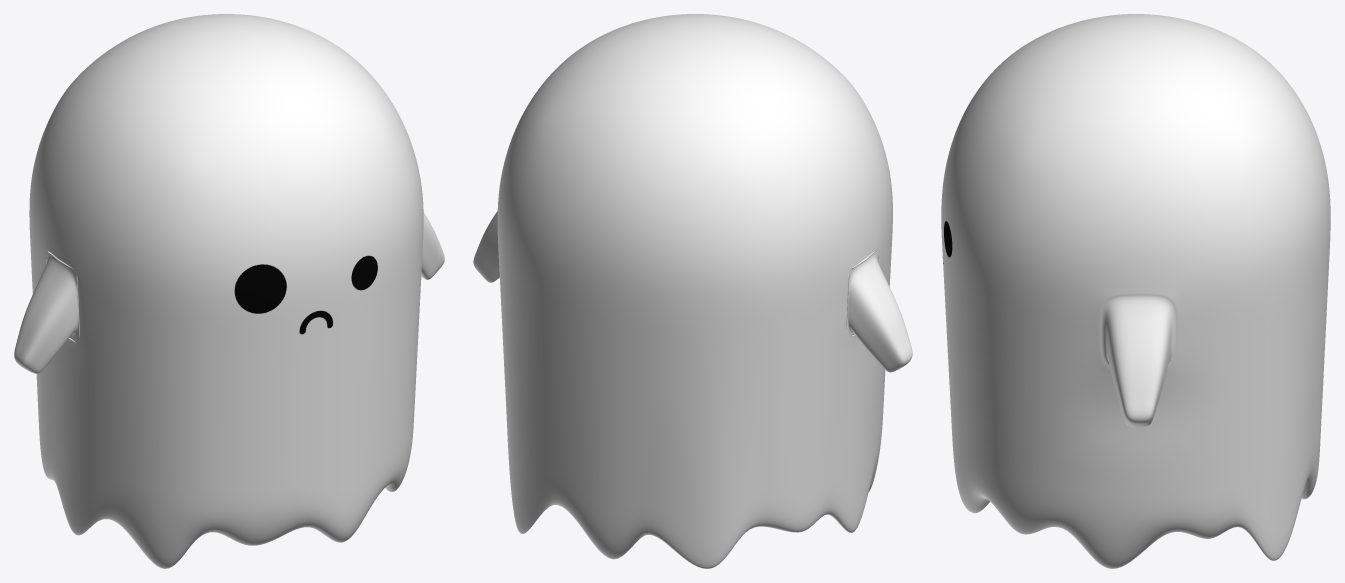
Rendered from Ghost.glb.
The picture shows the model from 3 angles, left to right: view 1: azimuth 30°, elevation 25°; view 2: azimuth 150°, elevation 25°; view 3: azimuth 270°, elevation 25°; orthographic projection.
Visible parts, largest first — view 1: Cube_Material.003_0; view 2: Cube_Material.003_0; view 3: Cube_Material.003_0.
Part boxes in pixels (x1,y1,x2,y2): Cube_Material.003_0: (14, 14, 444, 568); Cube_Material.003_0: (473, 14, 912, 568); Cube_Material.003_0: (941, 14, 1330, 568).
Bounding box in the file's own units: 2.12 × 2.23 × 1.66.
1 material, 1 textured.
